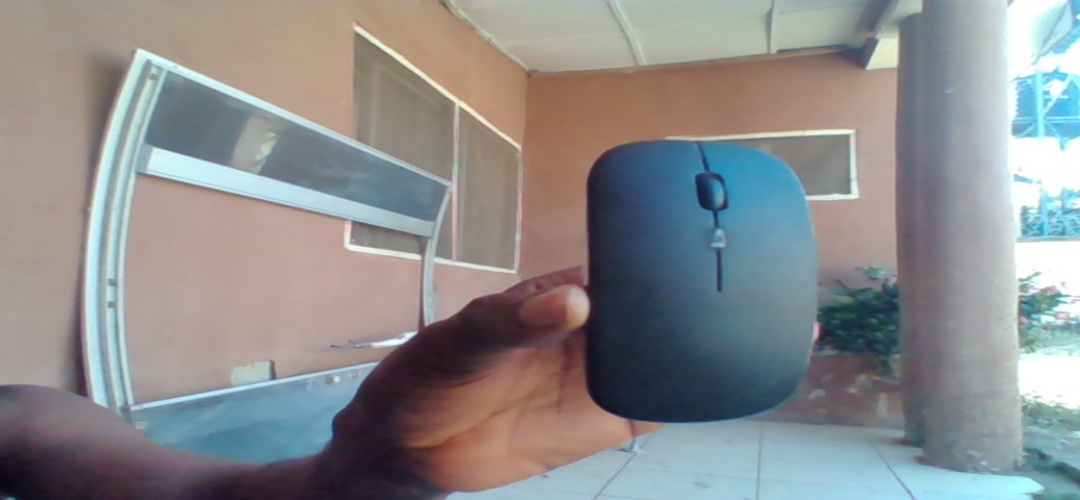wireless_mouse: (586, 136, 819, 424)
